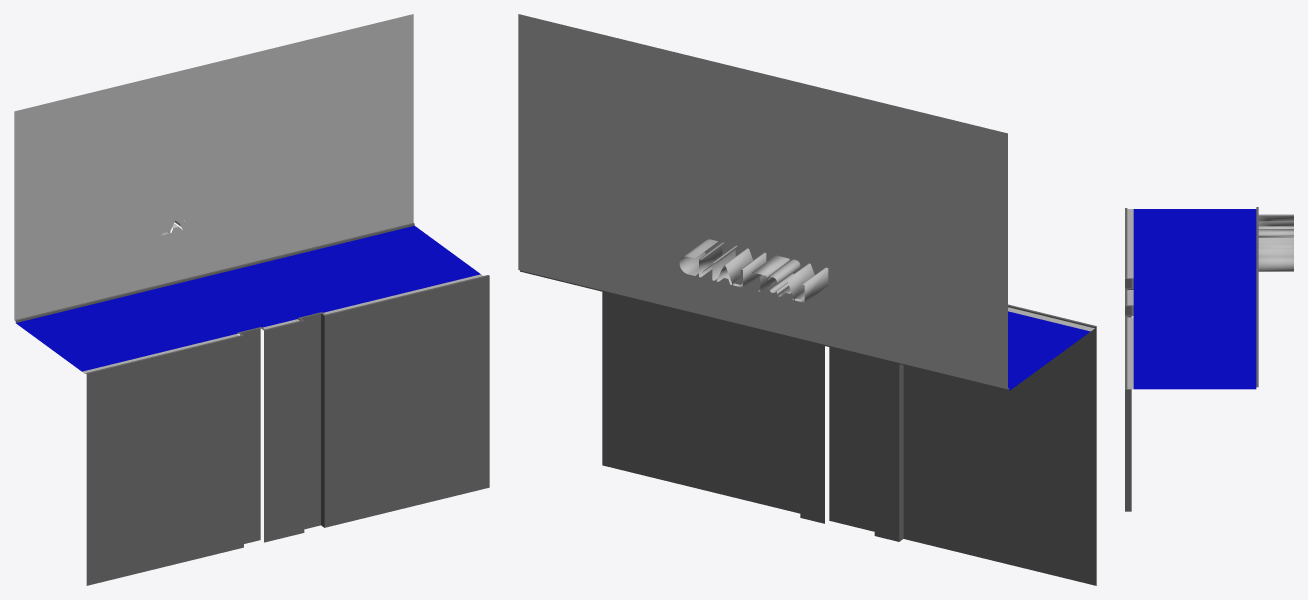
The model's file is Place Menu.fbx.
The picture shows the model from 3 angles, left to right: view 1: azimuth 30°, elevation 25°; view 2: azimuth 150°, elevation 25°; view 3: azimuth 270°, elevation 25°; orthographic projection. The views are drawn at different scales.
Parts seen in each view (by area): view 1: Place Menu; view 2: Place Menu; view 3: Place Menu.
Boxes of the visible parts, x1=… form: Place Menu: x1=14, y1=14, x2=489, y2=585; Place Menu: x1=518, y1=14, x2=1096, y2=585; Place Menu: x1=1125, y1=207, x2=1293, y2=511.
Size of the model in its own units: 200000 by 200000 by 78404.
